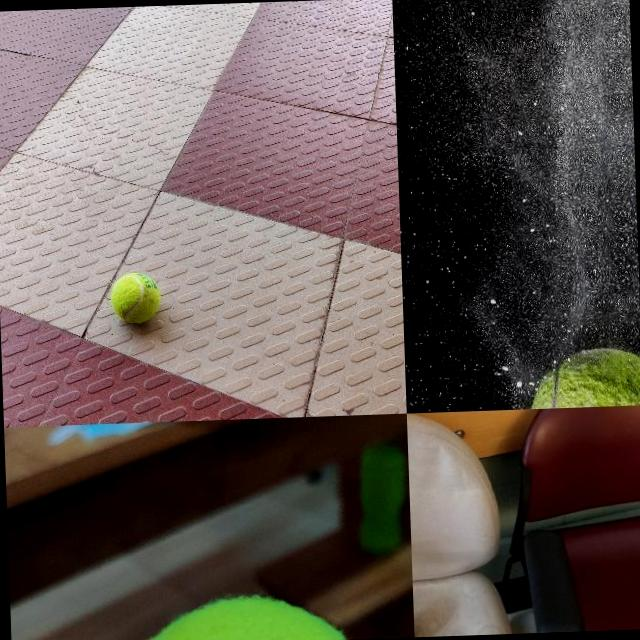Tennis Ball: (525, 346, 640, 408), (110, 272, 161, 324)
